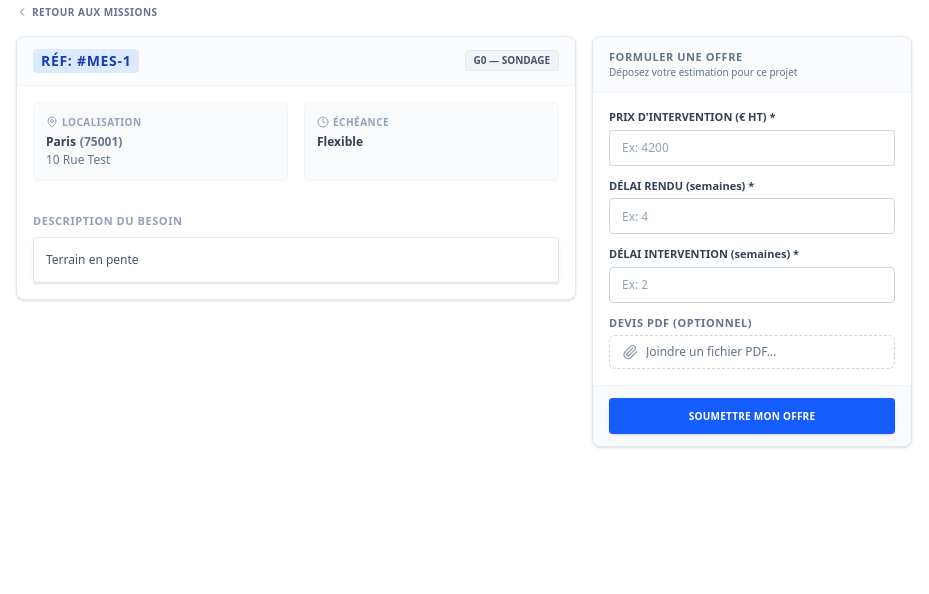
Test: BERequestDetail — validation du formulaire de proposition › ouvre toujours la modale de confirmation au clic sur "SOUMETTRE"
Expected: the number field with placeholder "Ex: 4200" is shown, [609,130,895,166]
// Prix vide → modale s'ouvre quand même
Step 1. Click the button "SOUMETTRE MON OFFRE" → (752, 416), box [609,398,895,434]
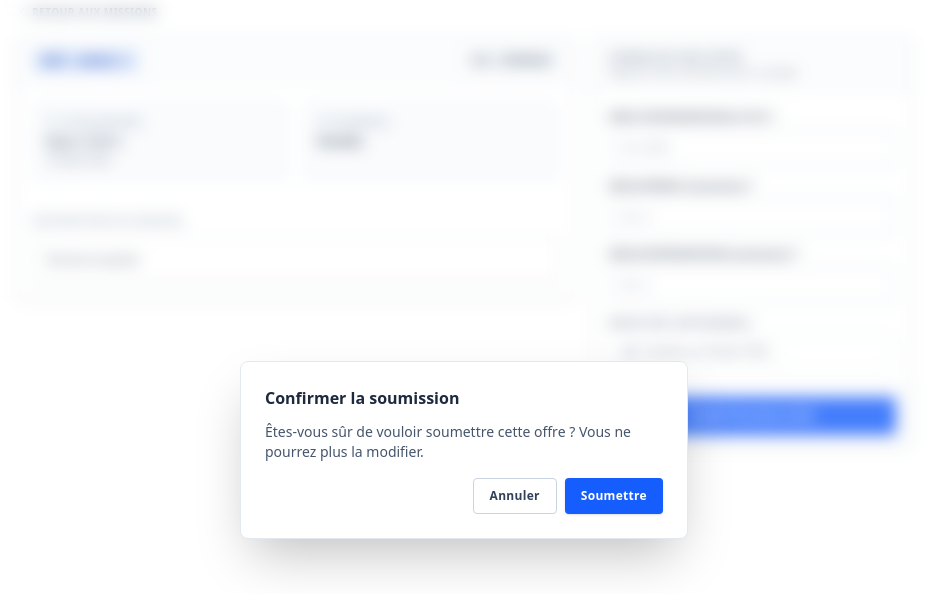
Now the heading "Confirmer la soumission" is shown, box [265,387,459,409]
